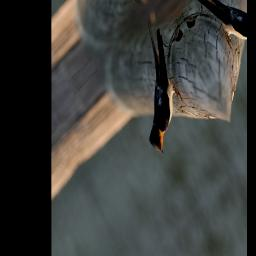Swallow: (107, 12, 203, 164)
